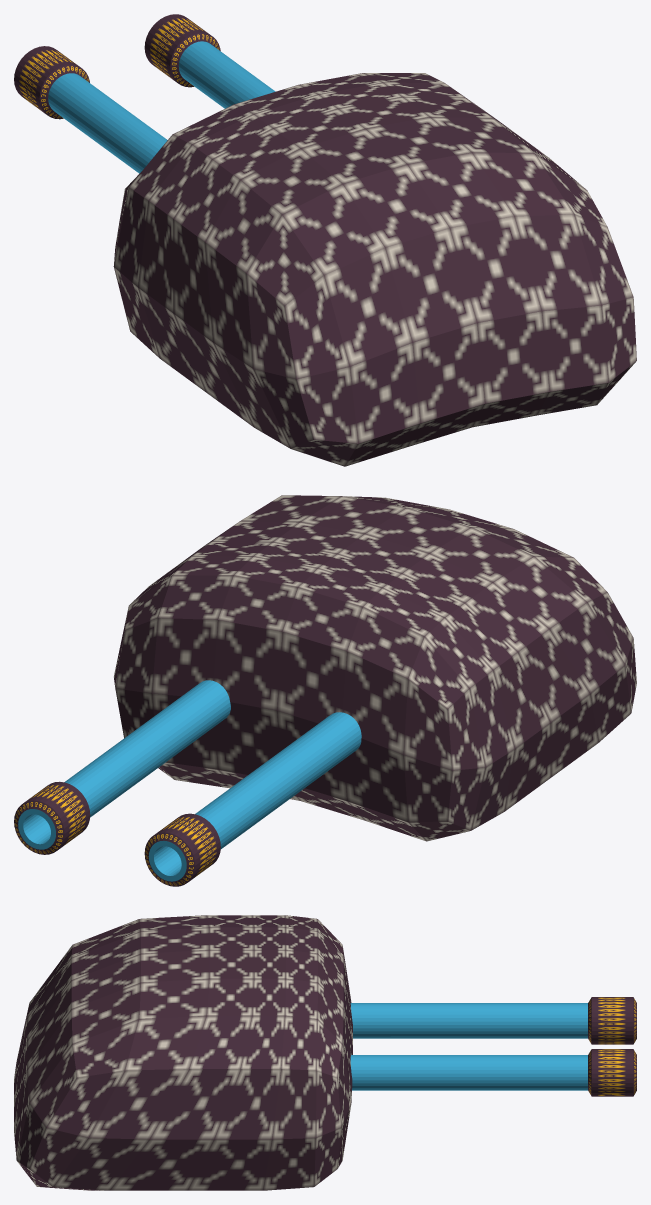
The model's file is turret_head.obj.
The picture shows the model from 3 angles, top to bottom: view 1: azimuth 30°, elevation 25°; view 2: azimuth 150°, elevation 25°; view 3: azimuth 270°, elevation 25°; orthographic projection. The views are drawn at different scales.
Parts seen in each view (by area): view 1: Cube.003_Cube.004; view 2: Cube.003_Cube.004; view 3: Cube.003_Cube.004.
Boxes of the visible parts, x1=… form: Cube.003_Cube.004: x1=14, y1=14, x2=636, y2=466; Cube.003_Cube.004: x1=14, y1=495, x2=636, y2=886; Cube.003_Cube.004: x1=14, y1=915, x2=636, y2=1190.
Size of the model in its own units: 20.53 by 12.19 by 36.11.
